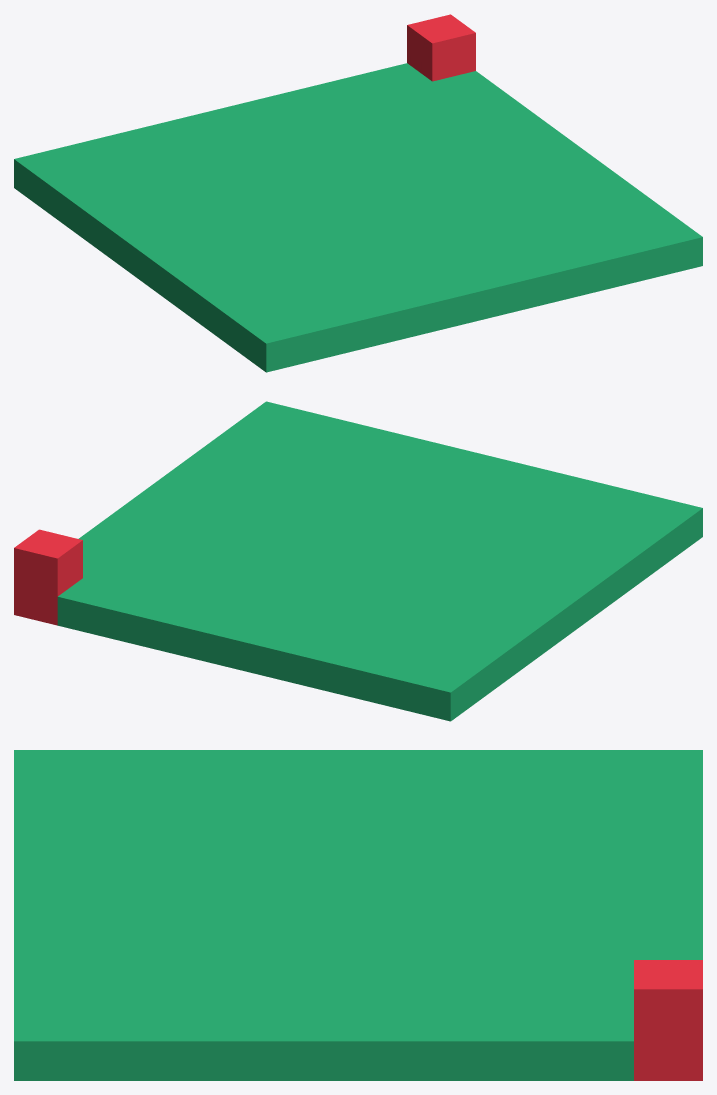
Rendered from innerCorner.fbx.
3 renders of one model, top to bottom at view 1: azimuth 30°, elevation 25°; view 2: azimuth 150°, elevation 25°; view 3: azimuth 270°, elevation 25°, orthographic. The views are drawn at different scales.
Visible parts, largest first — view 1: innerCorner; view 2: innerCorner; view 3: innerCorner.
Boxes of the visible parts, x1,y1,x2,y2 form: innerCorner: (14, 14, 702, 372); innerCorner: (14, 401, 702, 721); innerCorner: (14, 750, 702, 1080).
Bounding box in the file's own units: 10 × 1.47 × 10.
